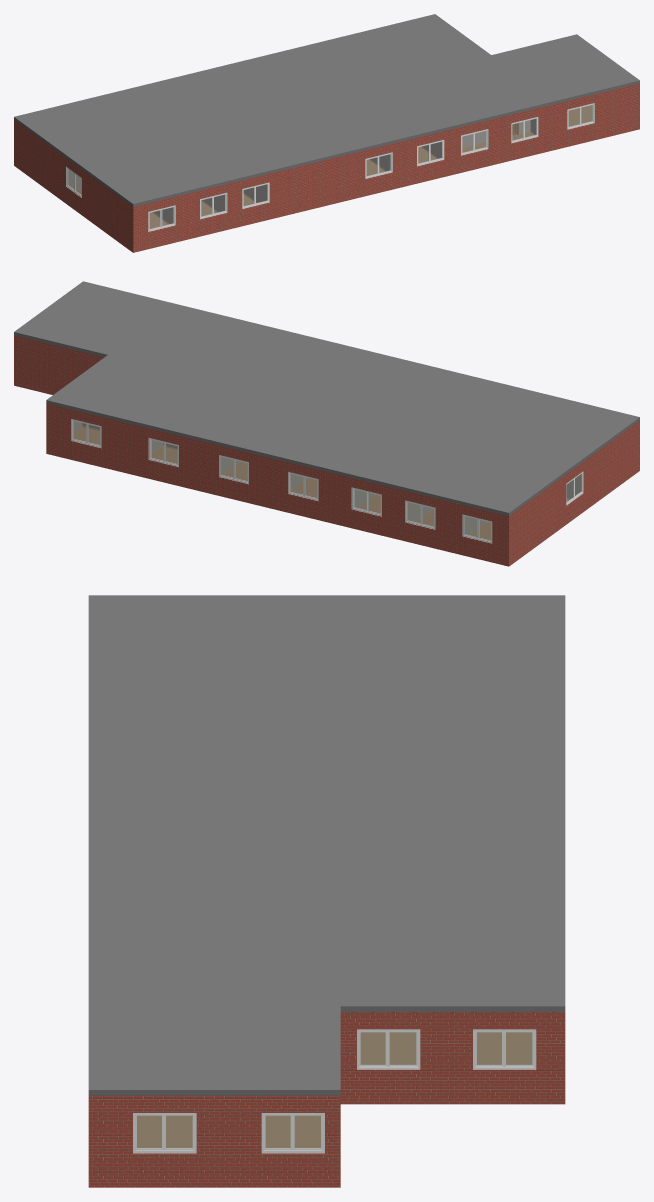
Rendered from office.dae.
3 renders of one model, top to bottom at view 1: azimuth 30°, elevation 25°; view 2: azimuth 150°, elevation 25°; view 3: azimuth 270°, elevation 25°, orthographic. The views are drawn at different scales.
Visible parts, largest first — view 1: node-1609, node-1225, node-1450, node-1412, node-1156, node-1338, node-1503, node-1499, node-1342, node-1491, node-1375, node-1216 (+11 smaller); view 2: node-1609, node-1320, node-1306, node-1495, node-1487, node-1334, node-1156, node-1338, node-1503, node-1399, node-1287, node-1473 (+8 smaller); view 3: node-1609, node-1436, node-1361, node-1408, node-1469, node-1156, node-1589, node-1591, node-1555, node-1581, node-1171, node-1163 (+2 smaller).
Part boxes in pixels (<box>): node-1609: <box>14,14,639,206</box>; node-1225: <box>553,83,639,147</box>; node-1450: <box>456,104,553,171</box>; node-1412: <box>307,152,358,207</box>; node-1156: <box>14,126,639,252</box>; node-1338: <box>88,174,133,249</box>; node-1503: <box>14,120,58,194</box>; node-1499: <box>133,194,187,249</box>; node-1342: <box>404,128,455,183</box>; node-1491: <box>187,182,236,236</box>; node-1375: <box>358,141,404,194</box>; node-1216: <box>275,164,307,215</box>; node-1609: <box>14,281,639,515</box>; node-1320: <box>46,403,128,470</box>; node-1306: <box>14,335,104,392</box>; node-1495: <box>128,423,202,488</box>; node-1487: <box>270,458,338,521</box>; node-1334: <box>203,441,270,504</box>; node-1156: <box>14,382,639,566</box>; node-1338: <box>590,420,639,503</box>; node-1503: <box>509,481,557,563</box>; node-1399: <box>449,502,508,563</box>; node-1287: <box>338,474,395,535</box>; node-1473: <box>395,488,449,548</box>; node-1609: <box>88,595,565,1095</box>; node-1436: <box>88,1095,252,1181</box>; node-1361: <box>440,1012,565,1098</box>; node-1408: <box>340,1012,439,1098</box>; node-1469: <box>252,1095,340,1181</box>; node-1156: <box>88,1098,565,1187</box>; node-1589: <box>357,1029,420,1069</box>; node-1591: <box>473,1029,536,1069</box>; node-1555: <box>133,1113,196,1152</box>; node-1581: <box>261,1113,324,1152</box>; node-1171: <box>265,1115,320,1148</box>; node-1163: <box>360,1032,416,1064</box>.
Size of the model in its own units: 36.88 by 3.4 by 15.03.
34 materials, 17 textured.
